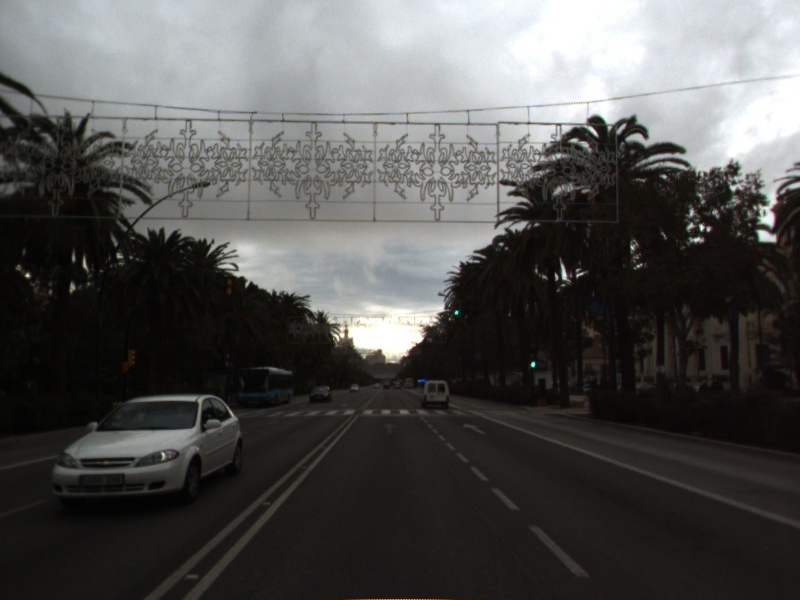STRAIGHT: (460, 421, 487, 436), (380, 421, 402, 437)
